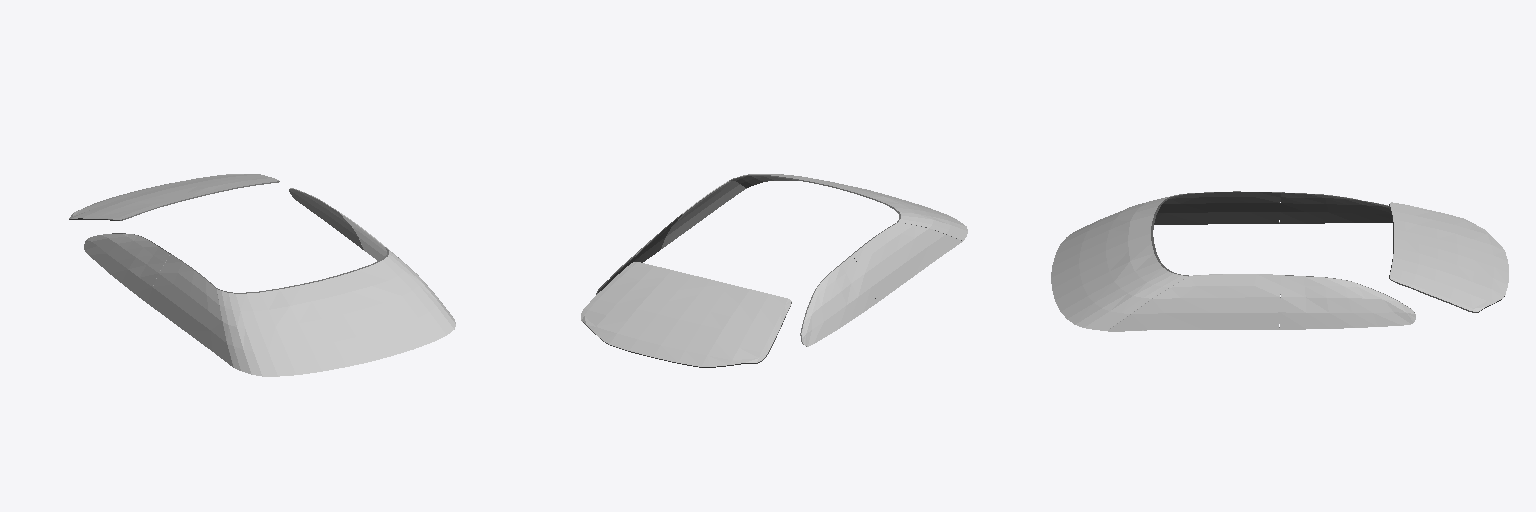
The model's file is sbrc_prime_glass.obj.
3 views of the same model, side by side, from view 1: azimuth 30°, elevation 25°; view 2: azimuth 150°, elevation 25°; view 3: azimuth 270°, elevation 25° (orthographic).
Visible parts, largest first — view 1: sbrc_windshield_prime_Mesh.201, sbrc_doorglass_R_prime_Mesh.207, sbrc_backlight_prime_Mesh.198, sbrc_sideglass_R_prime_Mesh.205, sbrc_sideglass_L_int_prime_Mesh.204, sbrc_doorglass_L_int_prime_Mesh.209; view 2: sbrc_backlight_prime_Mesh.198, sbrc_doorglass_R_prime_Mesh.207, sbrc_sideglass_R_prime_Mesh.205, sbrc_windshield_prime_Mesh.201, sbrc_doorglass_L_int_prime_Mesh.209, sbrc_sideglass_L_int_prime_Mesh.204, sbrc_windshield_int_prime_Mesh.202; view 3: sbrc_windshield_prime_Mesh.201, sbrc_backlight_prime_Mesh.198, sbrc_doorglass_L_prime_Mesh.206, sbrc_sideglass_L_prime_Mesh.200, sbrc_doorglass_R_int_prime_Mesh.208, sbrc_sideglass_R_int_prime_Mesh.203.
Part boxes in pixels (left/top/right/bottom): sbrc_windshield_prime_Mesh.201: left=217, top=247, right=455, bottom=376; sbrc_doorglass_R_prime_Mesh.207: left=147, top=254, right=233, bottom=367; sbrc_backlight_prime_Mesh.198: left=69, top=174, right=278, bottom=219; sbrc_sideglass_R_prime_Mesh.205: left=84, top=234, right=169, bottom=302; sbrc_sideglass_L_int_prime_Mesh.204: left=289, top=189, right=363, bottom=249; sbrc_doorglass_L_int_prime_Mesh.209: left=340, top=213, right=386, bottom=260; sbrc_backlight_prime_Mesh.198: left=581, top=262, right=791, bottom=366; sbrc_doorglass_R_prime_Mesh.207: left=853, top=222, right=962, bottom=302; sbrc_sideglass_R_prime_Mesh.205: left=801, top=255, right=876, bottom=346; sbrc_windshield_prime_Mesh.201: left=729, top=174, right=967, bottom=240; sbrc_doorglass_L_int_prime_Mesh.209: left=661, top=181, right=746, bottom=248; sbrc_sideglass_L_int_prime_Mesh.204: left=598, top=215, right=681, bottom=292; sbrc_windshield_int_prime_Mesh.202: left=730, top=175, right=961, bottom=240; sbrc_windshield_prime_Mesh.201: left=1051, top=193, right=1187, bottom=330; sbrc_backlight_prime_Mesh.198: left=1390, top=202, right=1508, bottom=311; sbrc_doorglass_L_prime_Mesh.206: left=1108, top=274, right=1280, bottom=331; sbrc_sideglass_L_prime_Mesh.200: left=1279, top=275, right=1415, bottom=329; sbrc_doorglass_R_int_prime_Mesh.208: left=1154, top=191, right=1280, bottom=224; sbrc_sideglass_R_int_prime_Mesh.203: left=1279, top=193, right=1392, bottom=223.
Bounding box in the file's own units: 1.53 × 0.3108 × 2.79.